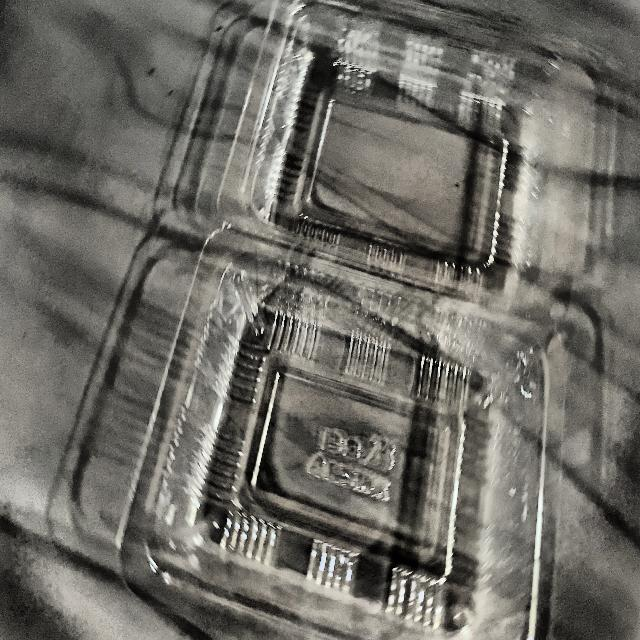plastic container: (175, 8, 549, 640)
